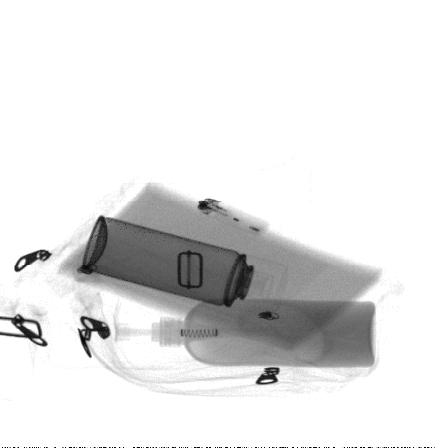Lighter: (191, 193, 273, 240)
Sprayer: (81, 215, 290, 320)
